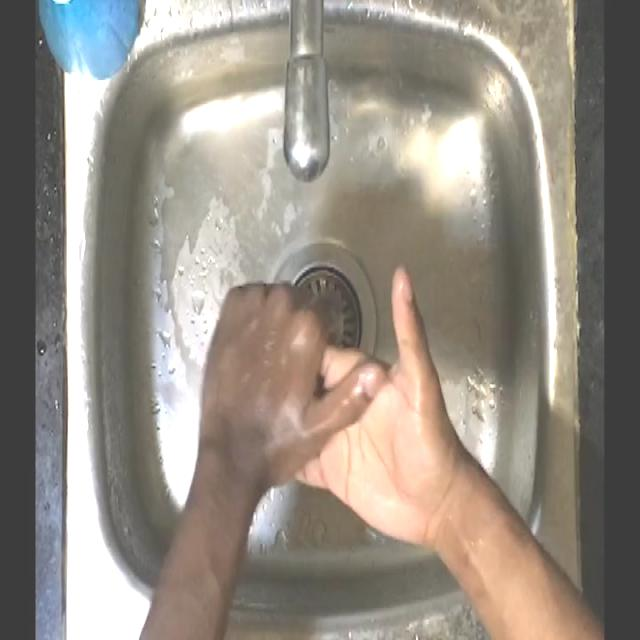step_5: (192, 265, 441, 542)
